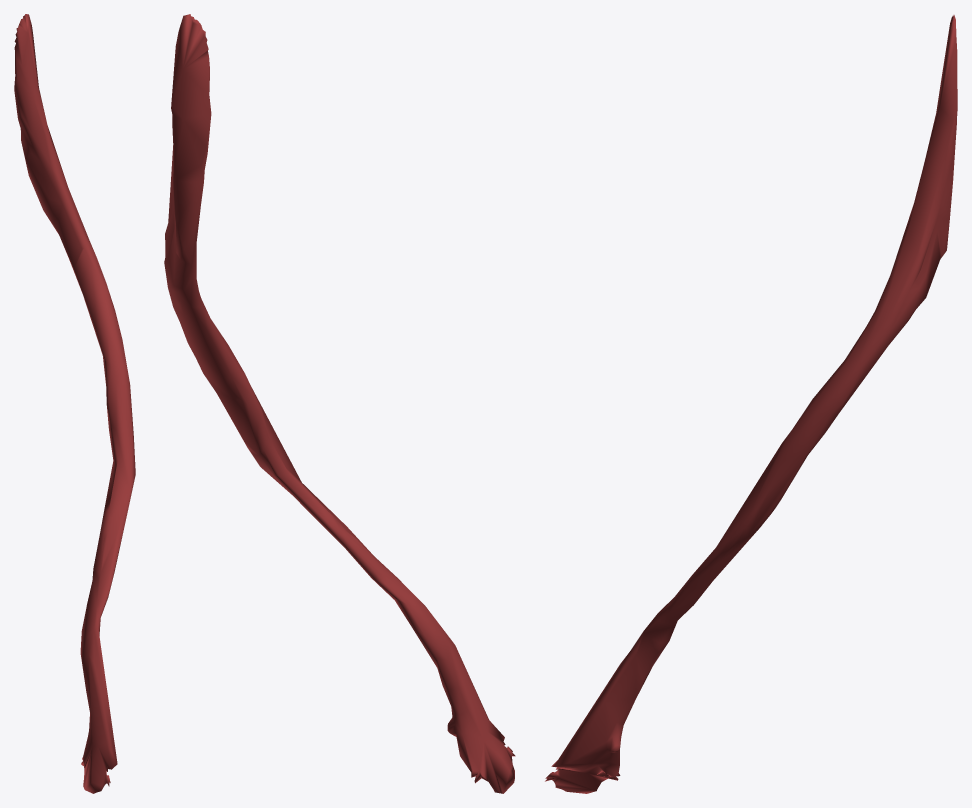
Rendered from fibularis-tertius-muscle-r.glb.
The picture shows the model from 3 angles, left to right: view 1: azimuth 30°, elevation 25°; view 2: azimuth 150°, elevation 25°; view 3: azimuth 270°, elevation 25°; orthographic projection. The views are drawn at different scales.
Visible parts, largest first — view 1: Fibularis tertius muscle.r; view 2: Fibularis tertius muscle.r; view 3: Fibularis tertius muscle.r.
Part boxes in pixels (box(x1,y1,x2,y2)): Fibularis tertius muscle.r: box(14, 14, 135, 793); Fibularis tertius muscle.r: box(164, 14, 515, 793); Fibularis tertius muscle.r: box(545, 15, 957, 793).
Bounding box in the file's own units: 0.0255 × 0.1229 × 0.0553.
